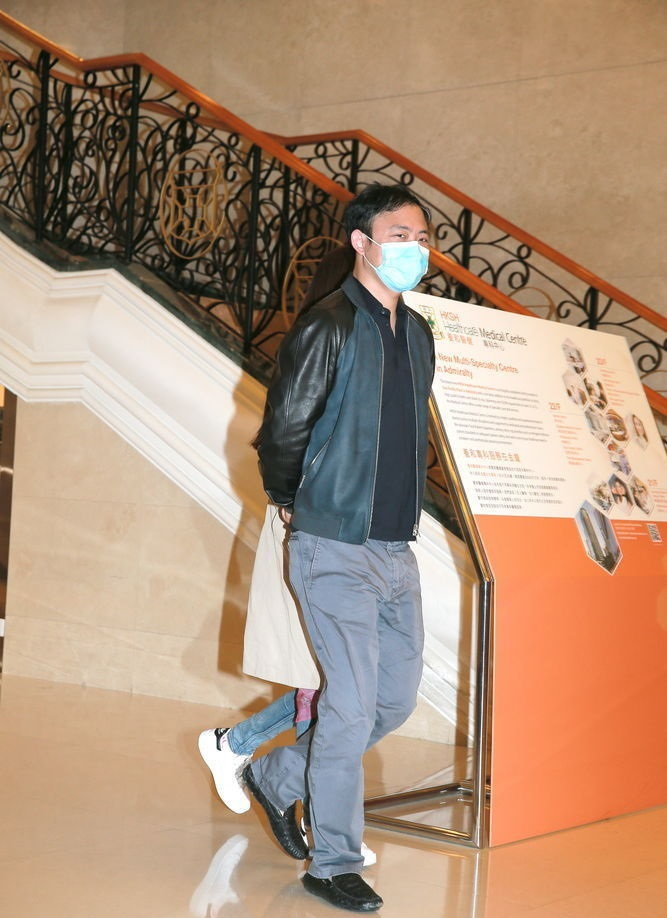face_mask: (369, 201, 429, 295)
